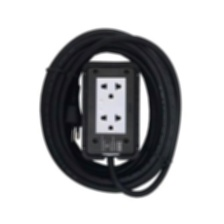three_eye_plug: (79, 60, 142, 163)
